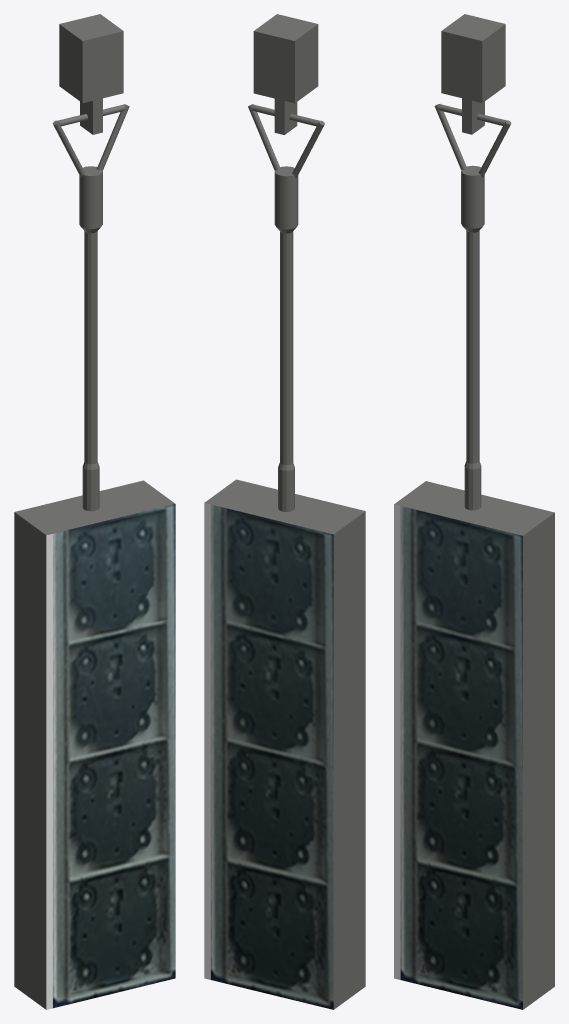
Rendered from 组装线_B1_机器13.fbx.
3 renders of one model, left to right at view 1: azimuth 30°, elevation 25°; view 2: azimuth 150°, elevation 25°; view 3: azimuth 330°, elevation 25°, orthographic.
Parts seen in each view (by area): view 1: Box001; view 2: Box001; view 3: Box001.
Boxes of the visible parts, x1,y1,x2,y2 form: Box001: (14,14,175,1009); Box001: (204,14,365,1009); Box001: (394,14,554,1009).
Size of the model in its own units: 23.68 by 167 by 10.14.
